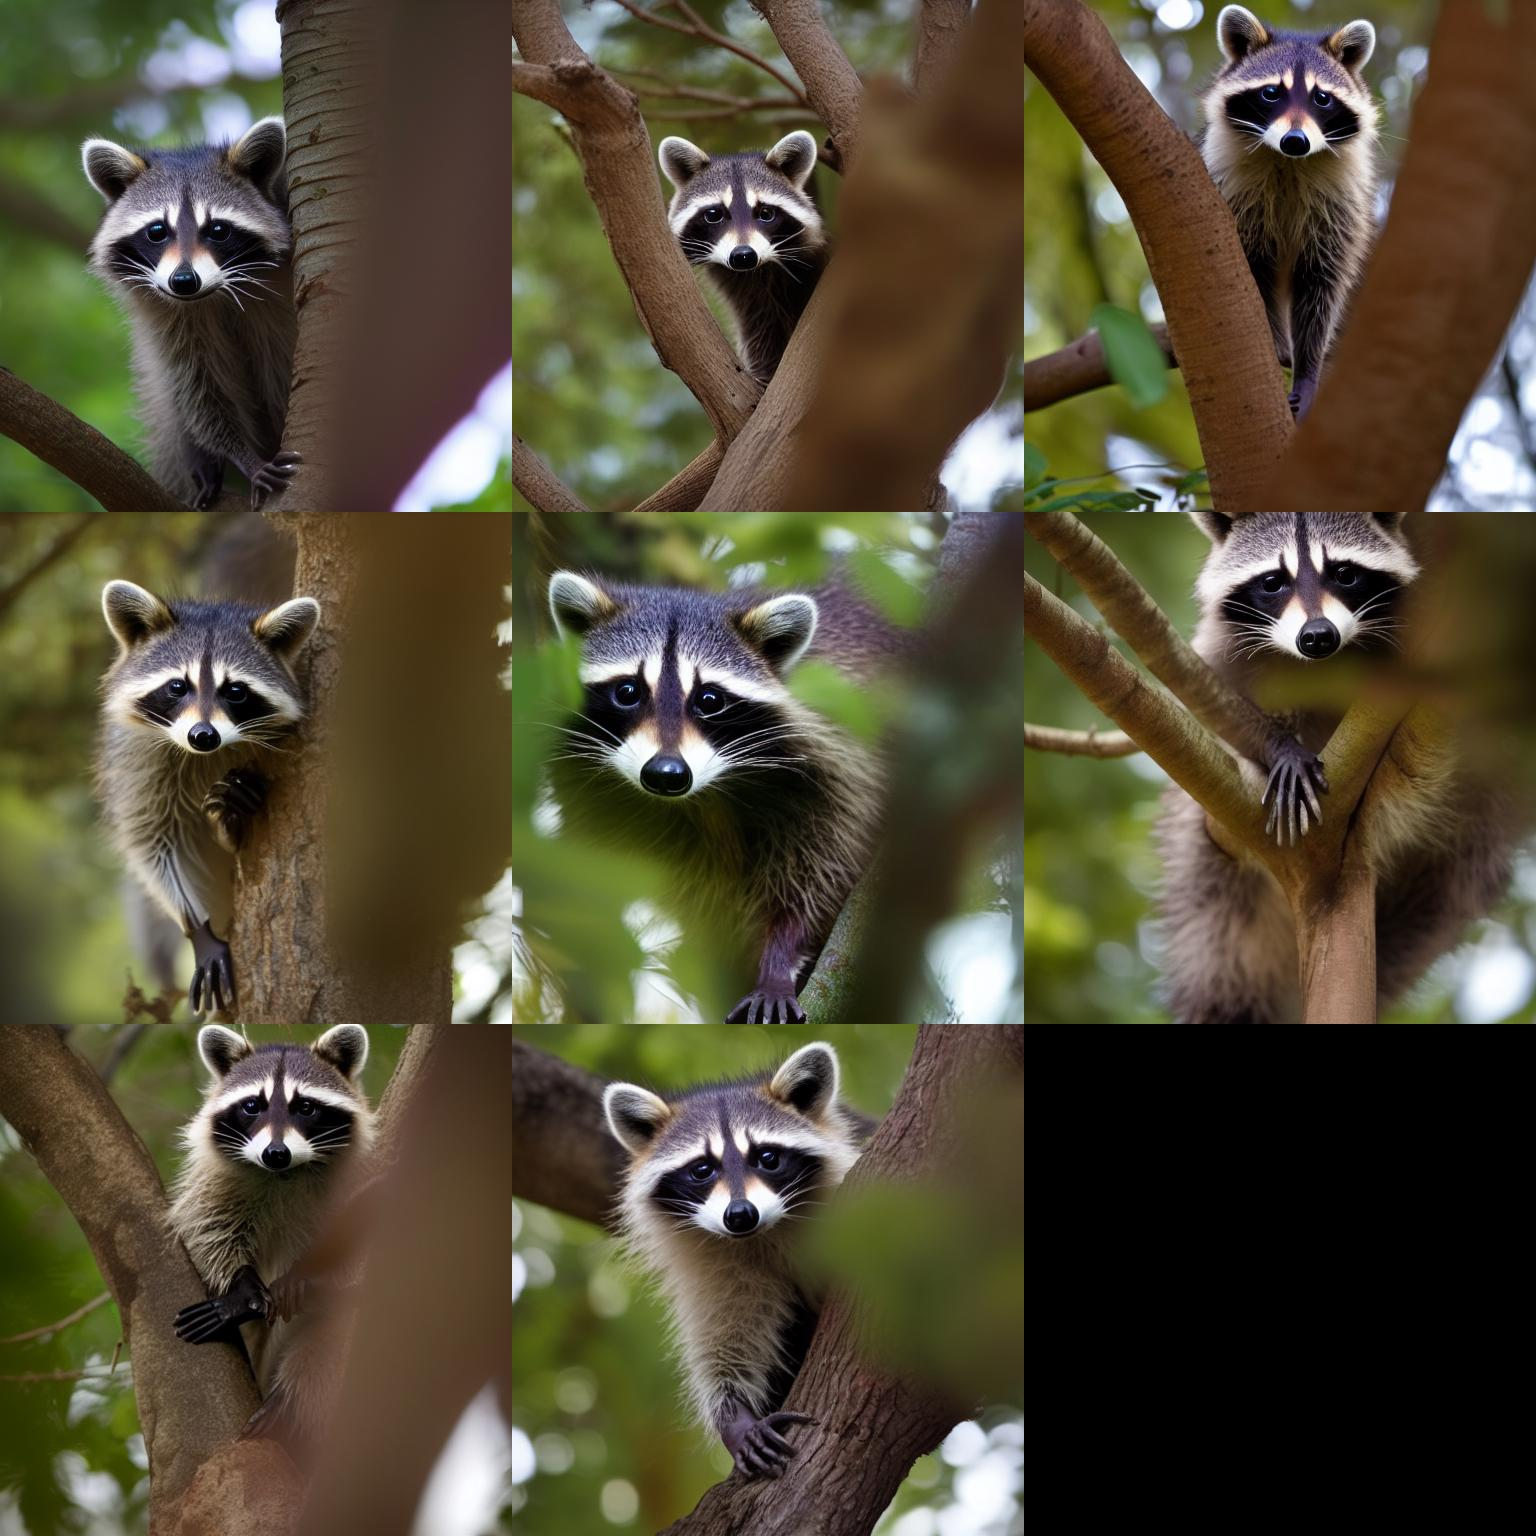raccoon: (1135, 508, 1435, 1027), (540, 563, 872, 938), (595, 1035, 878, 1387), (75, 113, 302, 502), (1193, 0, 1385, 402), (83, 570, 319, 888), (151, 1023, 395, 1267), (653, 122, 833, 360)
